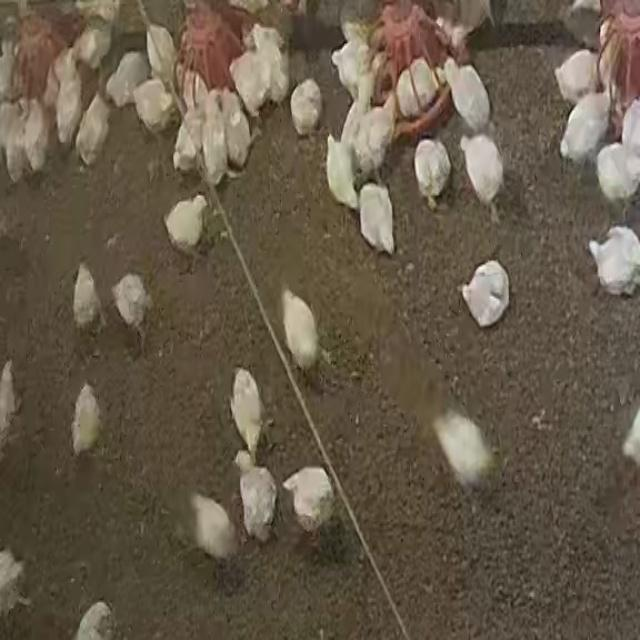chicken: (434, 409, 495, 489), (459, 126, 507, 217), (559, 93, 610, 167), (282, 464, 334, 536), (280, 287, 324, 370), (444, 59, 492, 134), (589, 227, 640, 296), (238, 460, 277, 546), (189, 491, 236, 561), (356, 91, 394, 177), (462, 259, 509, 328), (230, 368, 264, 462), (251, 22, 288, 108), (595, 142, 637, 213), (163, 192, 208, 256), (54, 56, 86, 146), (198, 88, 226, 190), (358, 183, 396, 256), (219, 86, 255, 163), (104, 50, 148, 109), (20, 97, 56, 169), (111, 272, 150, 338), (330, 34, 369, 100), (414, 137, 450, 208), (554, 49, 601, 103), (400, 53, 438, 119), (132, 75, 174, 134), (326, 135, 358, 211), (174, 102, 208, 173), (77, 91, 109, 163), (71, 16, 113, 70), (71, 383, 101, 458), (0, 360, 20, 466), (148, 17, 178, 87), (230, 53, 268, 108), (73, 262, 101, 336), (290, 78, 324, 136), (73, 599, 114, 640), (3, 105, 23, 188), (177, 69, 207, 120)
